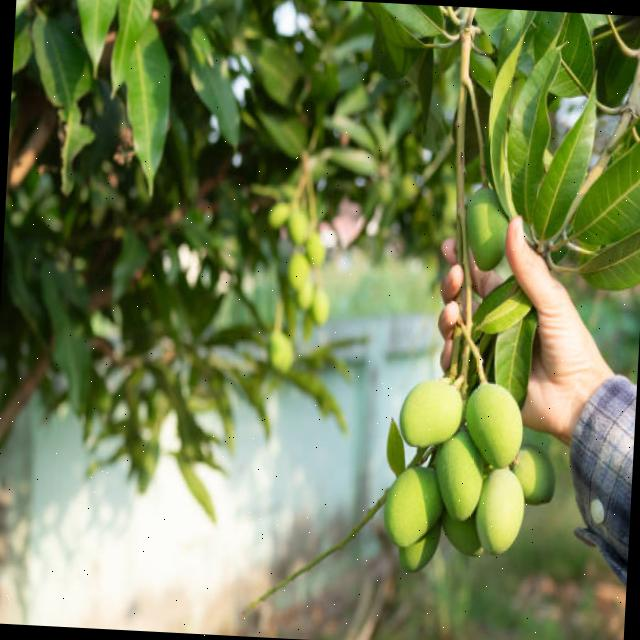mango: (466, 384, 522, 468), (385, 467, 443, 547), (436, 429, 483, 520), (400, 381, 463, 447), (477, 468, 524, 554), (466, 187, 508, 270), (512, 446, 554, 504)
